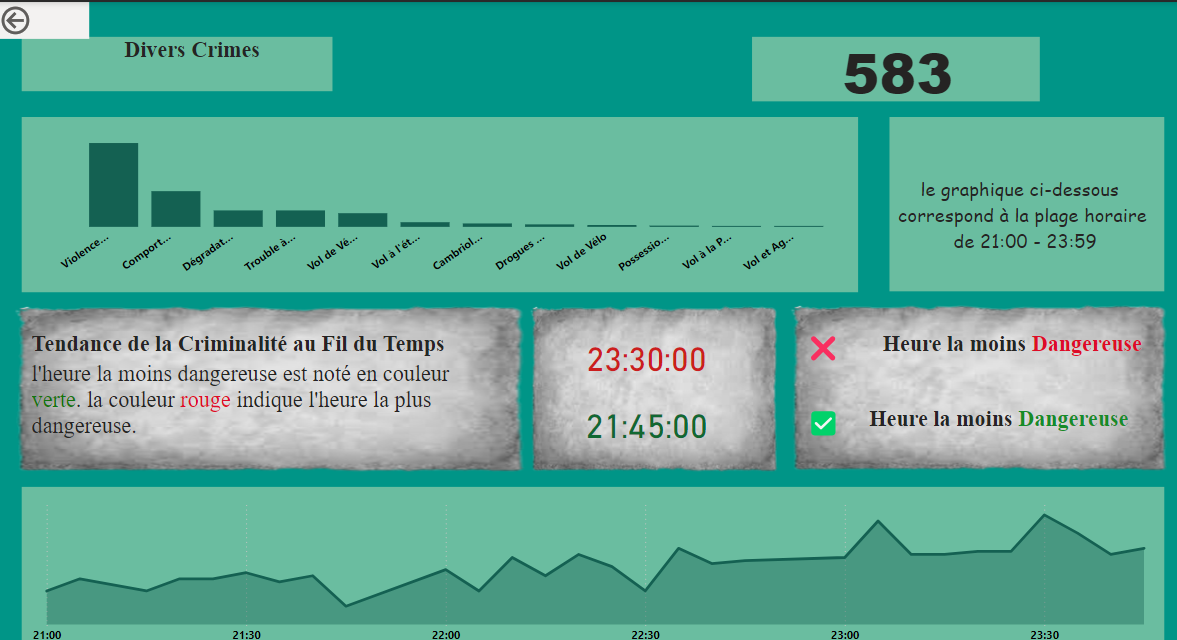

This screenshot's page, from the dashboard's own definition file:
{"tool":"powerbi","page":{"name":"details ","canvas":[1280,720],"ordinal":1},"visuals":[{"type":"areaChart","fields":{"Category":["Crime Data.Crime Time"],"Y":["_mesure.total_crime"]},"box":[32,528,1232,176],"z":0},{"type":"actionButton","box":[0,0,100,40],"z":1000},{"type":"actionButton","box":[0,0,100,40],"z":2000},{"type":"card","fields":{"Values":["_mesure.drill_through"]},"box":[960,128,304,192],"z":3000},{"type":"clusteredColumnChart","fields":{"Y":["_mesure.total_crime"],"Category":["Crimes types.Crime"]},"box":[32,128,896,176],"z":4000},{"type":"textbox","box":[960,352,272,64],"z":5000},{"type":"card","fields":{"Values":["_mesure.cross"]},"box":[896,352,96,48],"z":6000},{"type":"textbox","box":[992,432,240,48],"z":7000},{"type":"card","fields":{"Values":["_mesure.check"]},"box":[928,432,64,48],"z":8000},{"type":"card","fields":{"Values":["Min(Crime Data.Crime Time)"]},"box":[592,416,224,80],"z":9000},{"type":"textbox","box":[32,352,384,48],"z":10000},{"type":"textbox","box":[32,384,512,112],"z":11000},{"type":"textbox","box":[32,32,352,64],"z":12000},{"type":"card","fields":{"Values":["_mesure.total_crime"]},"box":[816,32,320,80],"z":13000},{"type":"card","fields":{"Values":["Min(Crime Data.Crime Time)"]},"box":[592,352,224,48],"z":14000}]}

Visuals, with their boxes on the page's 1280x720 design canvas (x1, y1, x2, y2). These are canvas units, not pixel positions in the 1177x640 screenshot, which may show the page scaled, cropped or inside an application window:
areaChart - Crime Data.Crime Time x _mesure.total_crime: Rect(32, 528, 1264, 704)
actionButton: Rect(0, 0, 100, 40)
actionButton: Rect(0, 0, 100, 40)
card - _mesure.drill_through: Rect(960, 128, 1264, 320)
clusteredColumnChart - _mesure.total_crime x Crimes types.Crime: Rect(32, 128, 928, 304)
textbox: Rect(960, 352, 1232, 416)
card - _mesure.cross: Rect(896, 352, 992, 400)
textbox: Rect(992, 432, 1232, 480)
card - _mesure.check: Rect(928, 432, 992, 480)
card - Min(Crime Data.Crime Time): Rect(592, 416, 816, 496)
textbox: Rect(32, 352, 416, 400)
textbox: Rect(32, 384, 544, 496)
textbox: Rect(32, 32, 384, 96)
card - _mesure.total_crime: Rect(816, 32, 1136, 112)
card - Min(Crime Data.Crime Time): Rect(592, 352, 816, 400)
